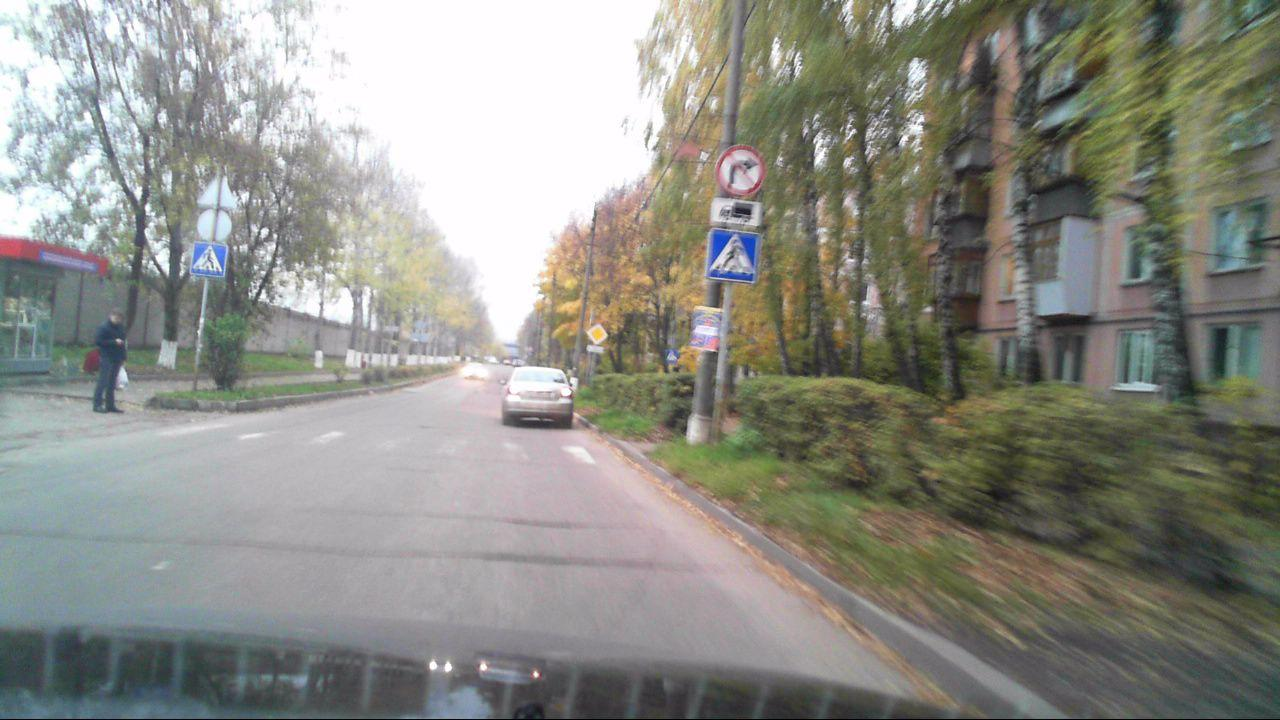3_18_1: (717, 145, 765, 198)
5_19_1: (705, 227, 759, 281)
5_19_2: (192, 240, 228, 277)
8_4_1: (711, 198, 762, 227)
